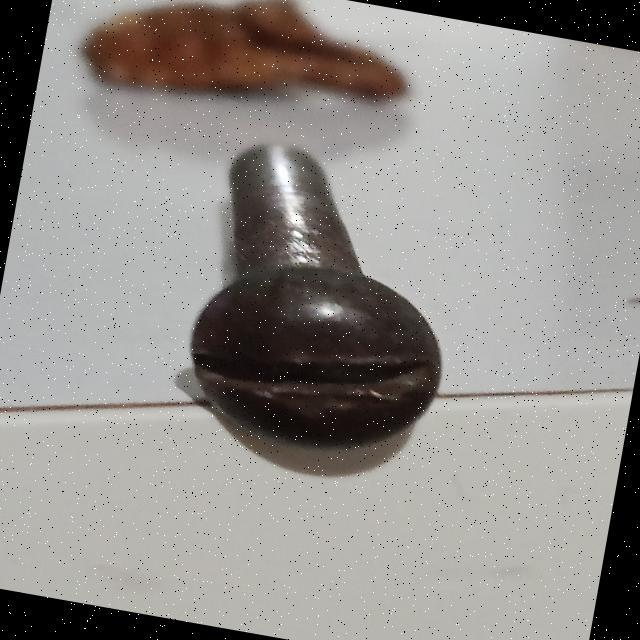Slotted: (137, 232, 484, 482)
